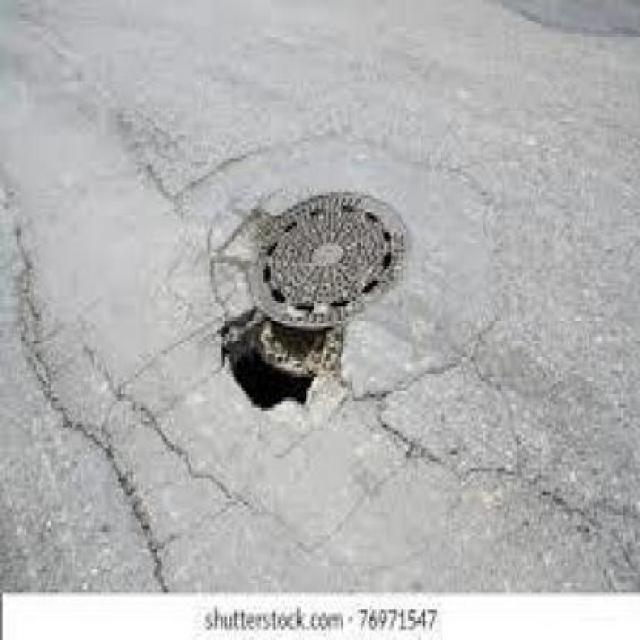Manhole: (243, 186, 414, 331)
Pothole: (218, 312, 347, 421)
